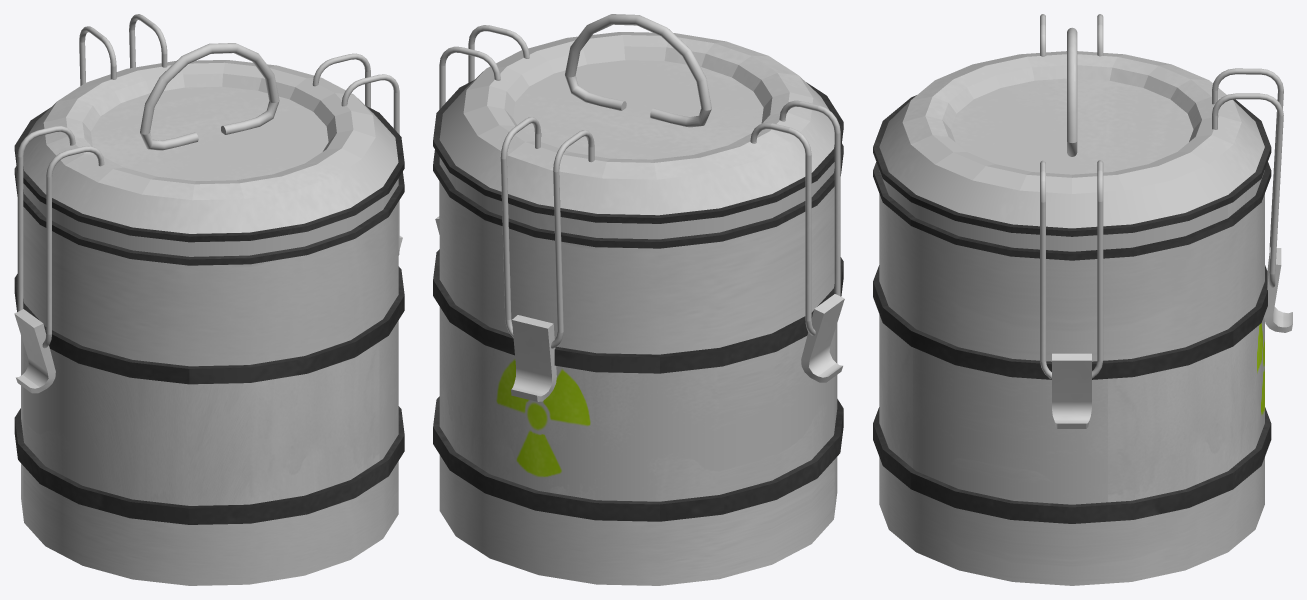
The model's file is explode thingie.fbx.
3 renders of one model, left to right at view 1: azimuth 30°, elevation 25°; view 2: azimuth 150°, elevation 25°; view 3: azimuth 270°, elevation 25°, orthographic. The views are drawn at different scales.
Visible parts, largest first — view 1: polySurface17; view 2: polySurface17; view 3: polySurface17.
Part boxes in pixels (x1,y1,x2,y2): polySurface17: [14, 14, 404, 585]; polySurface17: [433, 14, 844, 585]; polySurface17: [873, 14, 1292, 585].
Bounding box in the file's own units: 0.771 × 0.9158 × 0.7427.
Materials: 1 (1 with a texture image).
